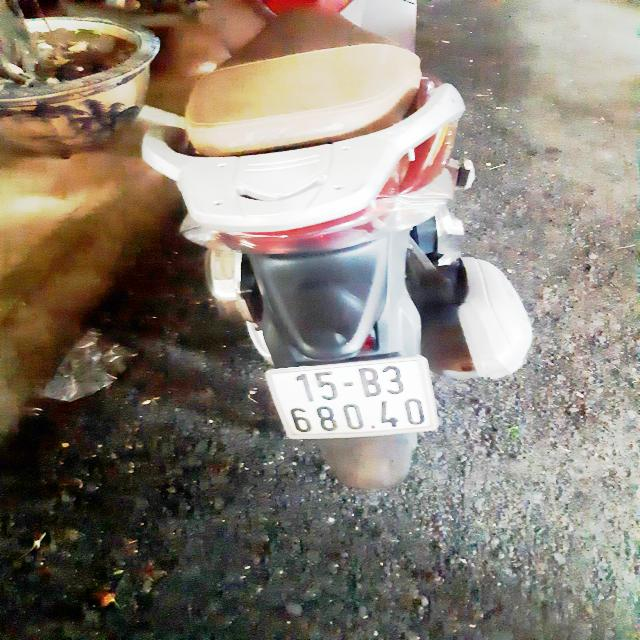license_plate: (254, 350, 451, 447)
